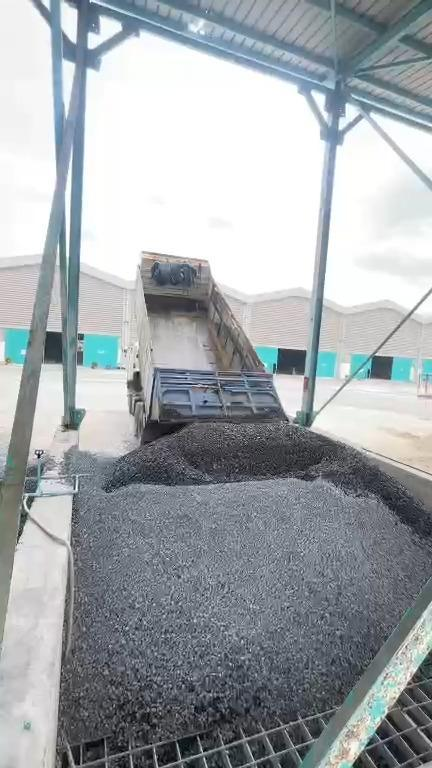gravel: (58, 444, 431, 744), (102, 420, 431, 537)
sand: (387, 430, 431, 473)
